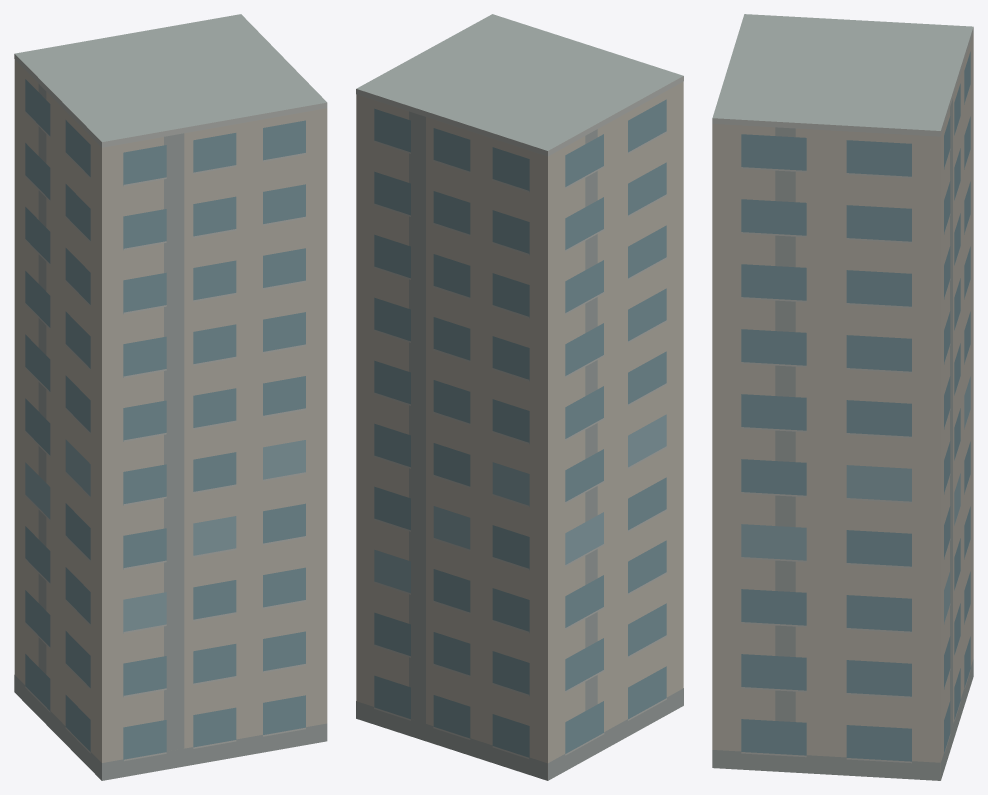
File: residential-622a5d0d-038d-4d78-aa9f-3cd2d7a4458d.glb
The picture shows the model from 3 angles, left to right: view 1: azimuth 30°, elevation 25°; view 2: azimuth 150°, elevation 25°; view 3: azimuth 270°, elevation 25°; orthographic projection. The views are drawn at different scales.
Visible parts, largest first — view 1: residential-622a5d0d-038d-4d78-aa9f-3cd2d7a4458d.tmp; view 2: residential-622a5d0d-038d-4d78-aa9f-3cd2d7a4458d.tmp; view 3: residential-622a5d0d-038d-4d78-aa9f-3cd2d7a4458d.tmp.
Boxes of the visible parts, box(x1,y1,x2,y2) form: residential-622a5d0d-038d-4d78-aa9f-3cd2d7a4458d.tmp: box(14, 14, 327, 780); residential-622a5d0d-038d-4d78-aa9f-3cd2d7a4458d.tmp: box(356, 14, 683, 780); residential-622a5d0d-038d-4d78-aa9f-3cd2d7a4458d.tmp: box(712, 14, 973, 780).
Size of the model in its own units: 10.82 by 28 by 10.21.
